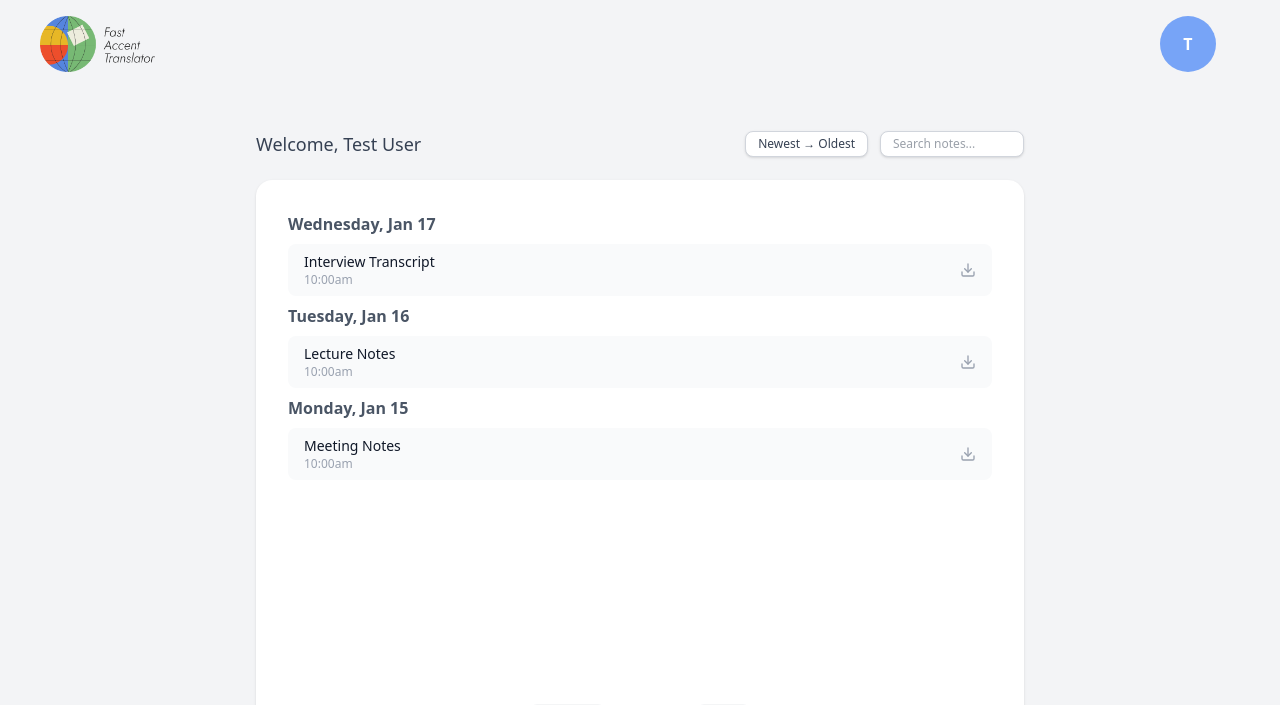
Test case: NotesPage Component › should filter transcripts based on search term
Type "meeting" into the field with placeholder "Search notes..." at (952, 144), box [880,131,1024,157]
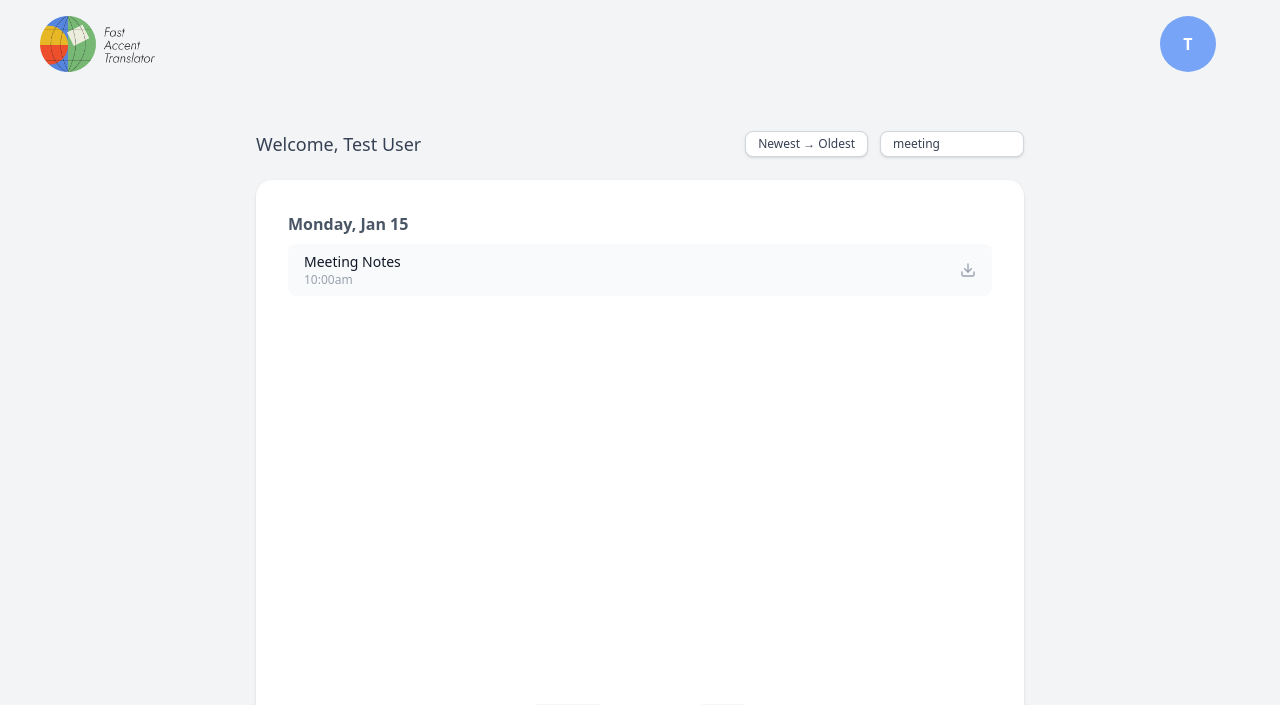
Expected: the text "Meeting Notes" is shown, [304,252,401,272]
Now the text "Lecture Notes" is gone
Now the text "Interview Transcript" is gone
